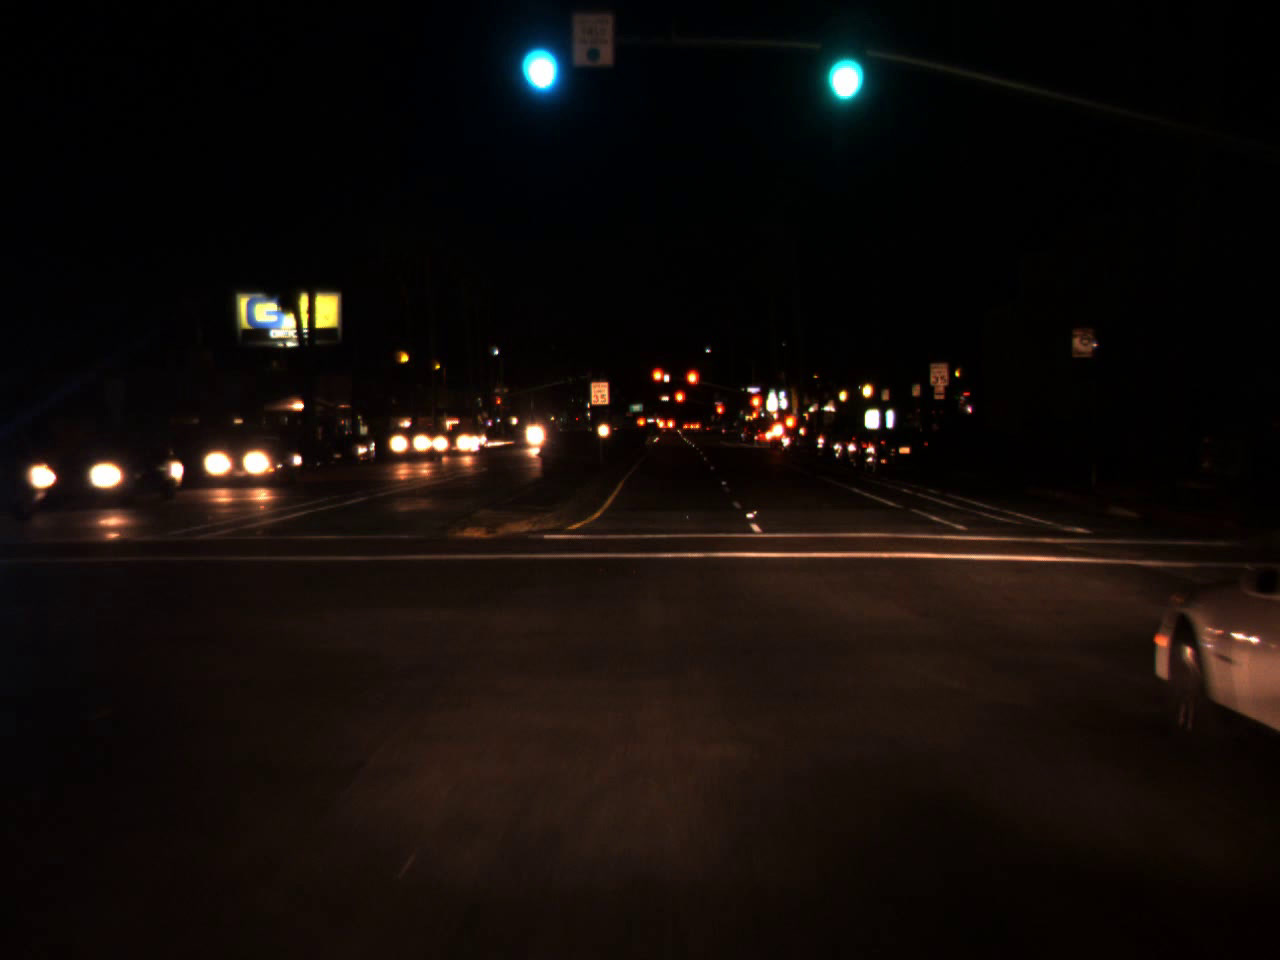go: (819, 22, 864, 109), (518, 17, 561, 101)
stop: (748, 393, 764, 425), (684, 369, 699, 401), (650, 367, 666, 394), (674, 389, 686, 416), (715, 404, 724, 425), (495, 396, 501, 412)
